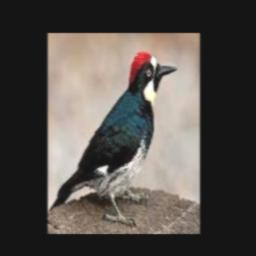Woodpecker: (49, 51, 177, 224)
